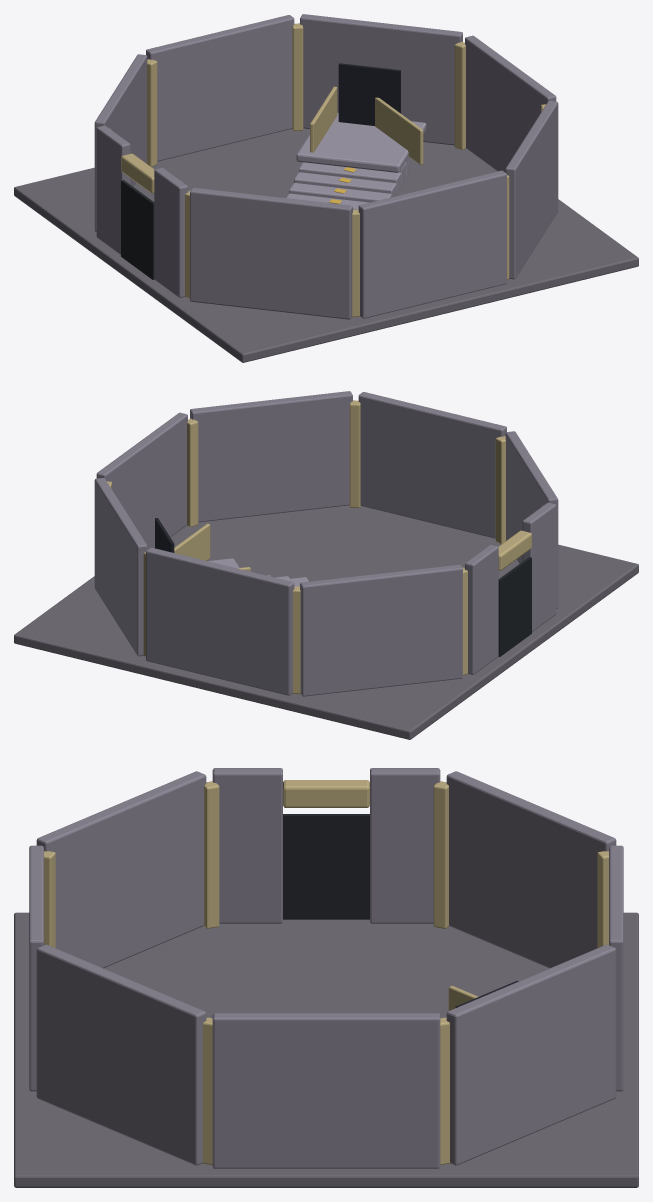
Rendered from enlightenment_dais_3983.glb.
3 views of the same model, one above another, from view 1: azimuth 30°, elevation 25°; view 2: azimuth 150°, elevation 25°; view 3: azimuth 270°, elevation 25° (orthographic). The views are drawn at different scales.
Visible parts, largest first — view 1: Room floor, SW solid wall, S solid wall, N solid wall, NE solid wall, E solid wall, SE solid wall, Upper dais platform, W doorway left, NW solid wall, W doorway right, Upward opening (+12 smaller); view 2: Room floor, NW solid wall, SE solid wall, N solid wall, S solid wall, E solid wall, NE solid wall, W doorway right, SW solid wall, W doorway left, W passage shadow, Corner column.003 (+6 smaller); view 3: Room floor, E solid wall, NE solid wall, SE solid wall, NW solid wall, SW solid wall, W doorway left, W doorway right, W passage shadow, N solid wall, S solid wall, W doorway lintel (+6 smaller).
Part boxes in pixels (box(x1,y1,x2,y2)): Room floor: box(14, 128, 638, 362); SW solid wall: box(190, 187, 352, 319); S solid wall: box(358, 170, 506, 318); N solid wall: box(146, 15, 294, 161); NE solid wall: box(300, 14, 462, 145); E solid wall: box(465, 35, 556, 172); SE solid wall: box(505, 101, 558, 279); Upper dais platform: box(296, 113, 426, 172); W doorway left: box(154, 167, 187, 297); NW solid wall: box(94, 54, 147, 231); W doorway right: box(96, 125, 130, 254); Upward opening: box(338, 63, 400, 125); Room floor: box(14, 505, 638, 739); NW solid wall: box(300, 564, 462, 696); SE solid wall: box(190, 391, 352, 522); N solid wall: box(146, 547, 294, 695); S solid wall: box(358, 392, 506, 538); E solid wall: box(96, 412, 187, 549); NE solid wall: box(94, 478, 147, 656); W doorway right: box(465, 544, 498, 674); SW solid wall: box(505, 431, 558, 608); W doorway left: box(522, 502, 556, 631); W passage shadow: box(498, 557, 531, 656); Corner column.003: box(349, 400, 360, 507); Room floor: box(14, 912, 638, 1187); E solid wall: box(212, 1013, 440, 1168); NE solid wall: box(446, 944, 616, 1165); SE solid wall: box(36, 944, 206, 1165); NW solid wall: box(446, 771, 616, 968); SW solid wall: box(36, 771, 206, 968); W doorway left: box(212, 768, 282, 923); W doorway right: box(370, 768, 440, 923); W passage shadow: box(283, 814, 369, 919); N solid wall: box(609, 845, 623, 1091); S solid wall: box(29, 845, 43, 1091); W doorway lintel: box(283, 780, 369, 807).
Size of the model in its own units: 18 by 5.2 by 18.
